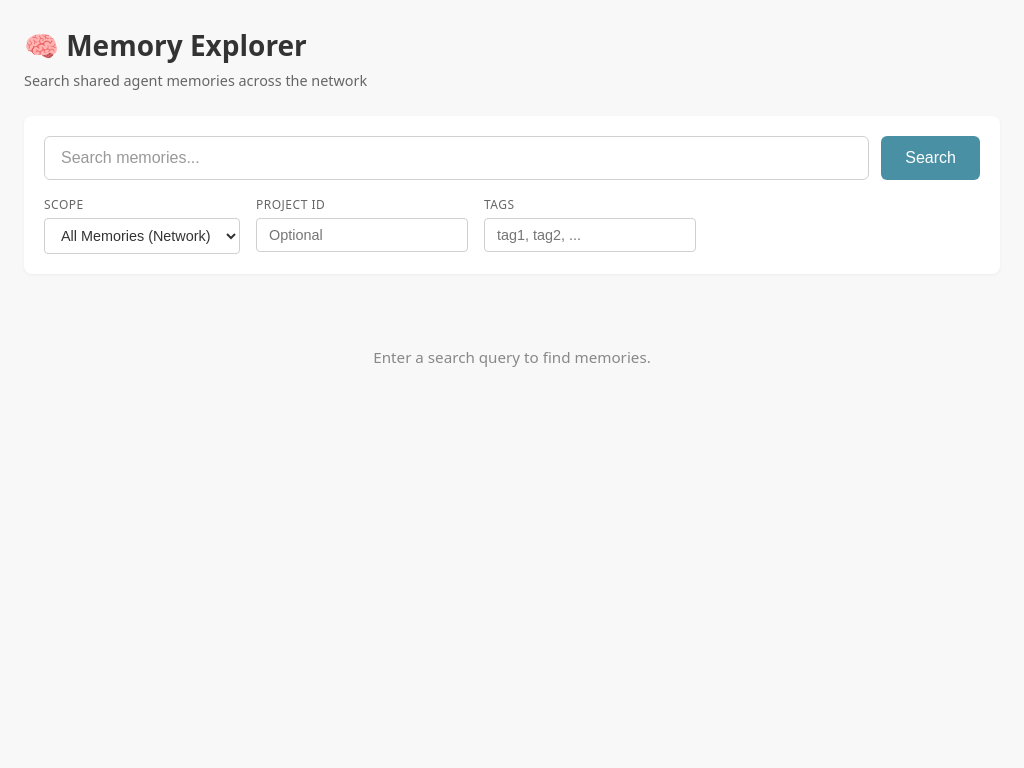
Test: MemoryExplorer › Sources collapse behavior › should keep sources collapsed by default after search and expand on toggle
In the field with placeholder "Search memories...": (457, 158) [44,136,869,180], type "source query"
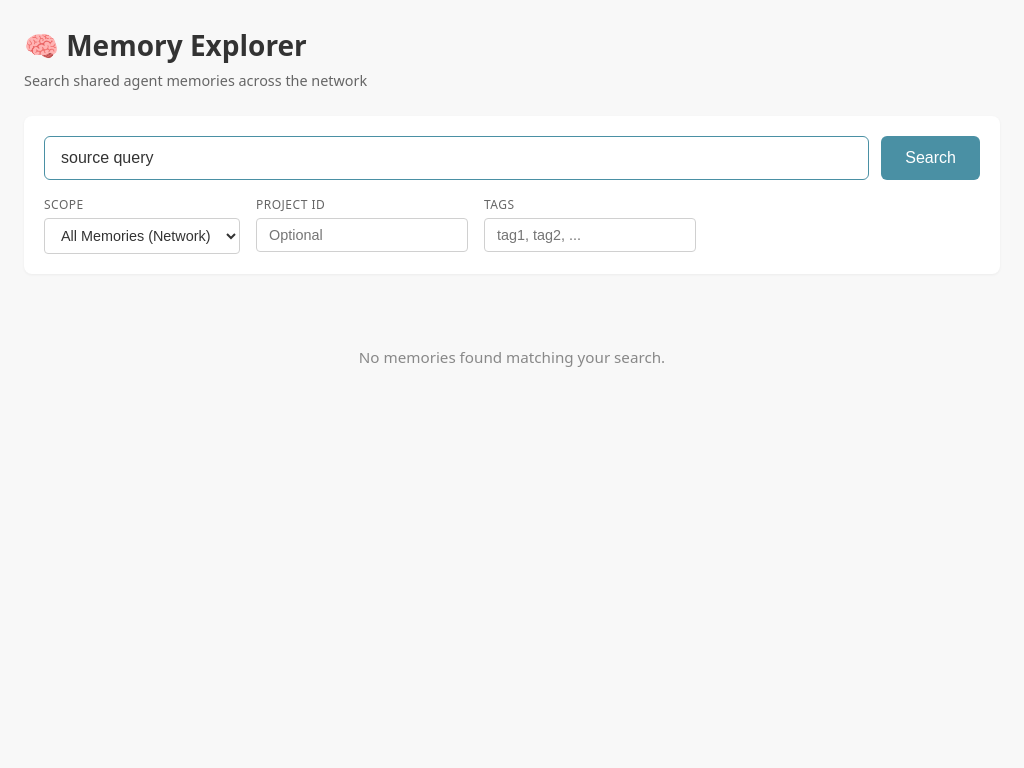
Press Enter
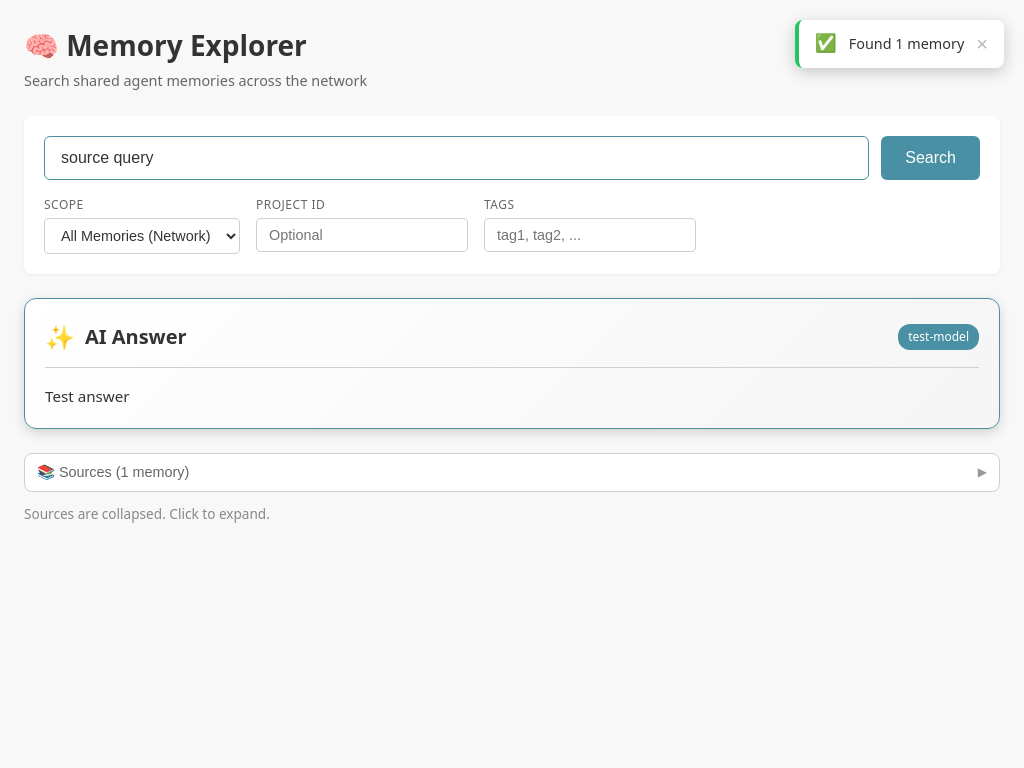
Expected: the text "Source memory content" is not shown
Expected: the button with aria-label "expand sources" is shown
Click the button with aria-label "expand sources": (79, 472) [24,453,1000,492]
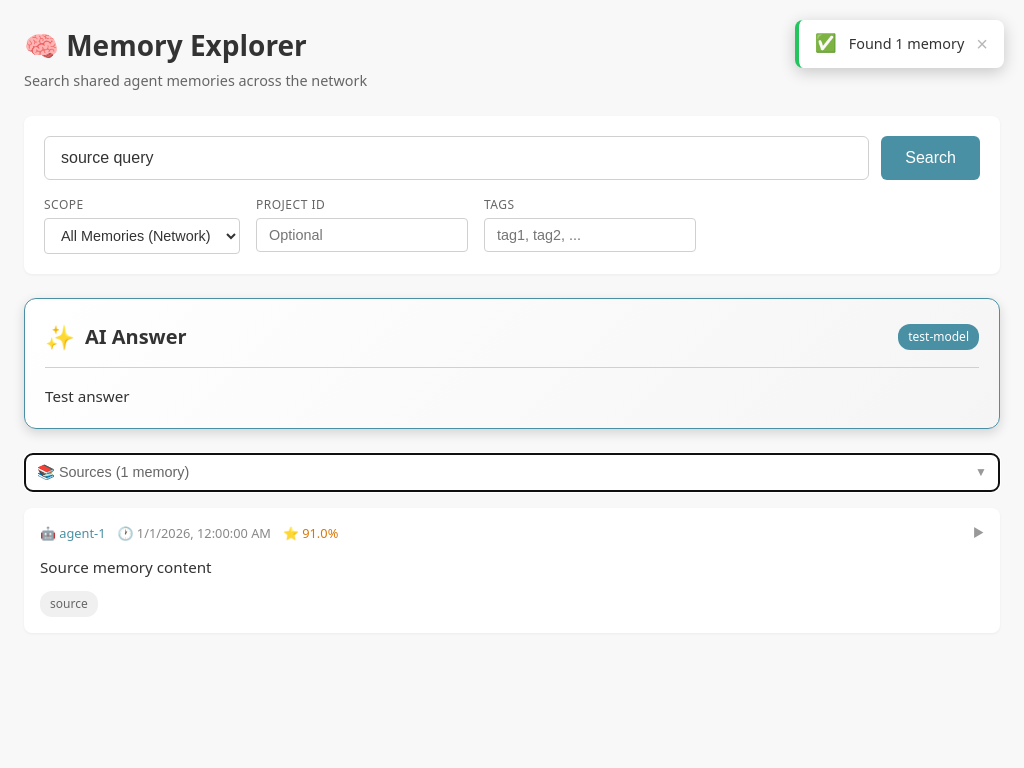
Expected: the button with aria-label "collapse sources" is shown, [24,453,1000,492]
Expected: the text "Source memory content" is shown, [40,557,212,577]
